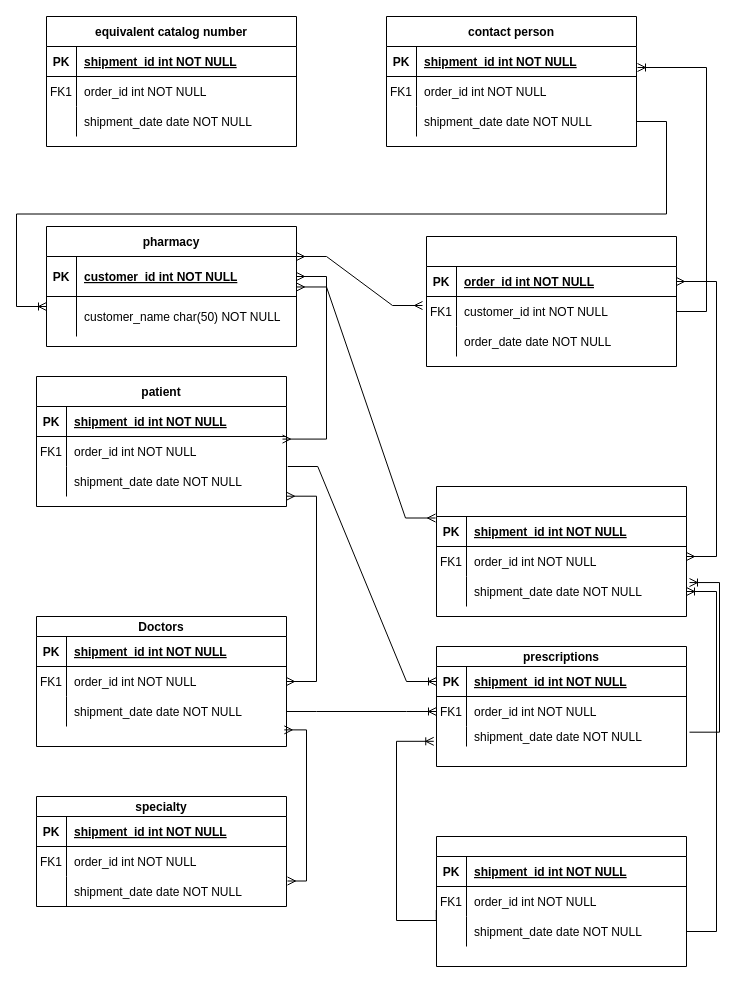
Image size: 736x983. Some labels were removed from this diagram. Each missing label, with the box of its shape:
drugs: (436, 486, 686, 616)
lines: (436, 836, 686, 966)
supplyers: (426, 236, 676, 366)
